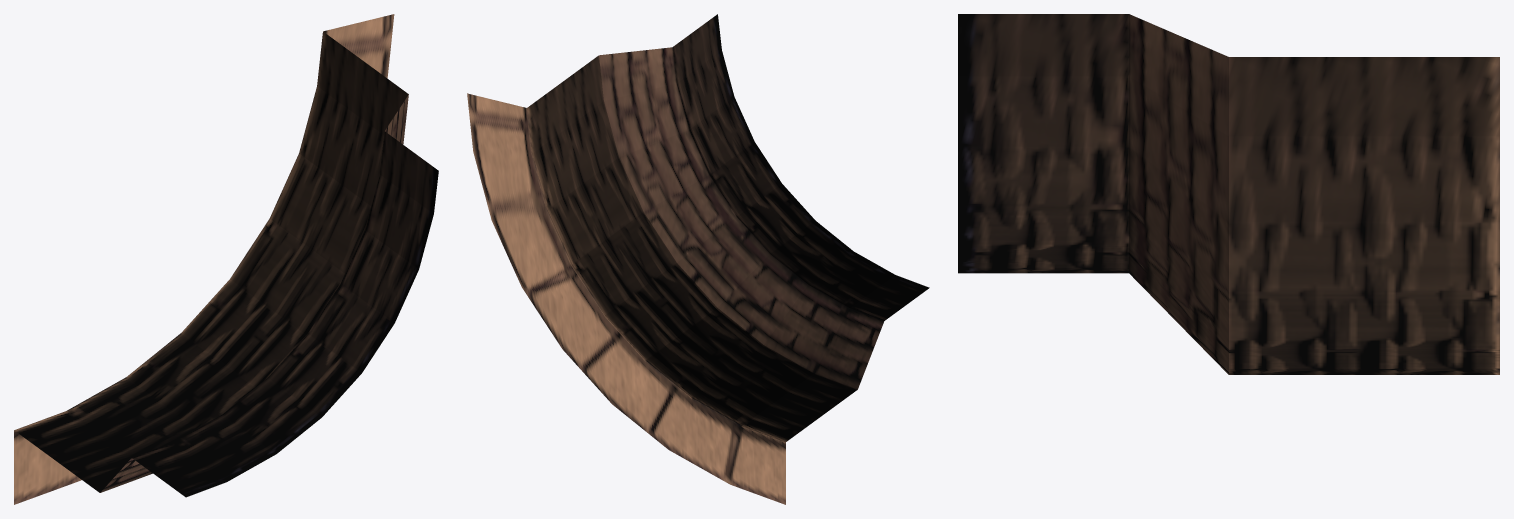
Rendered from ex_2InCorner2.obj.
3 renders of one model, left to right at view 1: azimuth 30°, elevation 25°; view 2: azimuth 150°, elevation 25°; view 3: azimuth 270°, elevation 25°, orthographic. The views are drawn at different scales.
Visible parts, largest first — view 1: ex_InCorner2_Cube.298; view 2: ex_InCorner2_Cube.298; view 3: ex_InCorner2_Cube.298.
Part boxes in pixels (bbox=[...]): ex_InCorner2_Cube.298: bbox=[14, 14, 438, 504]; ex_InCorner2_Cube.298: bbox=[467, 14, 929, 504]; ex_InCorner2_Cube.298: bbox=[958, 14, 1499, 374].
Size of the model in its own units: 174 by 174 by 136.
